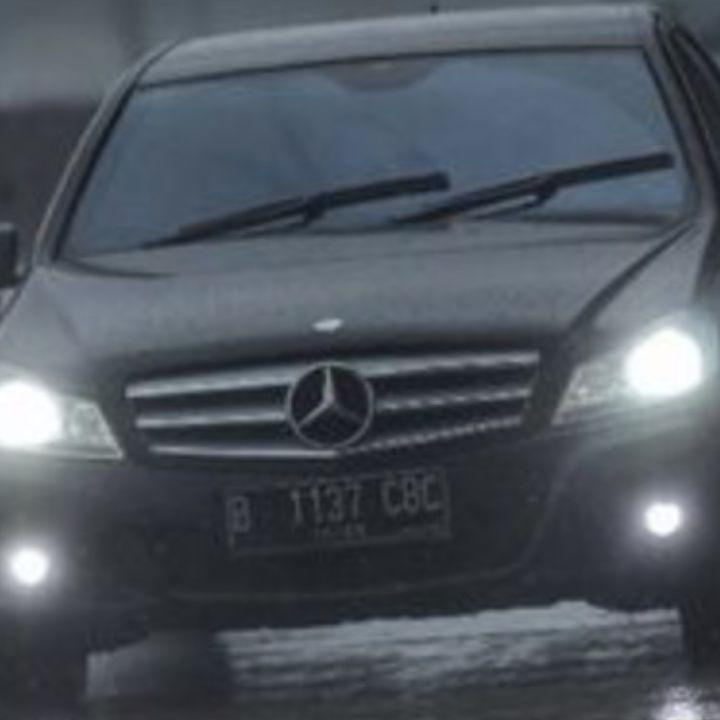plat: (220, 472, 445, 554)
